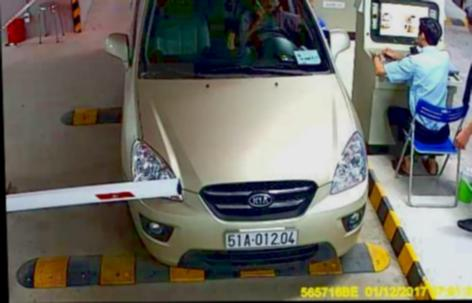License_Plate: (226, 228, 298, 248)
